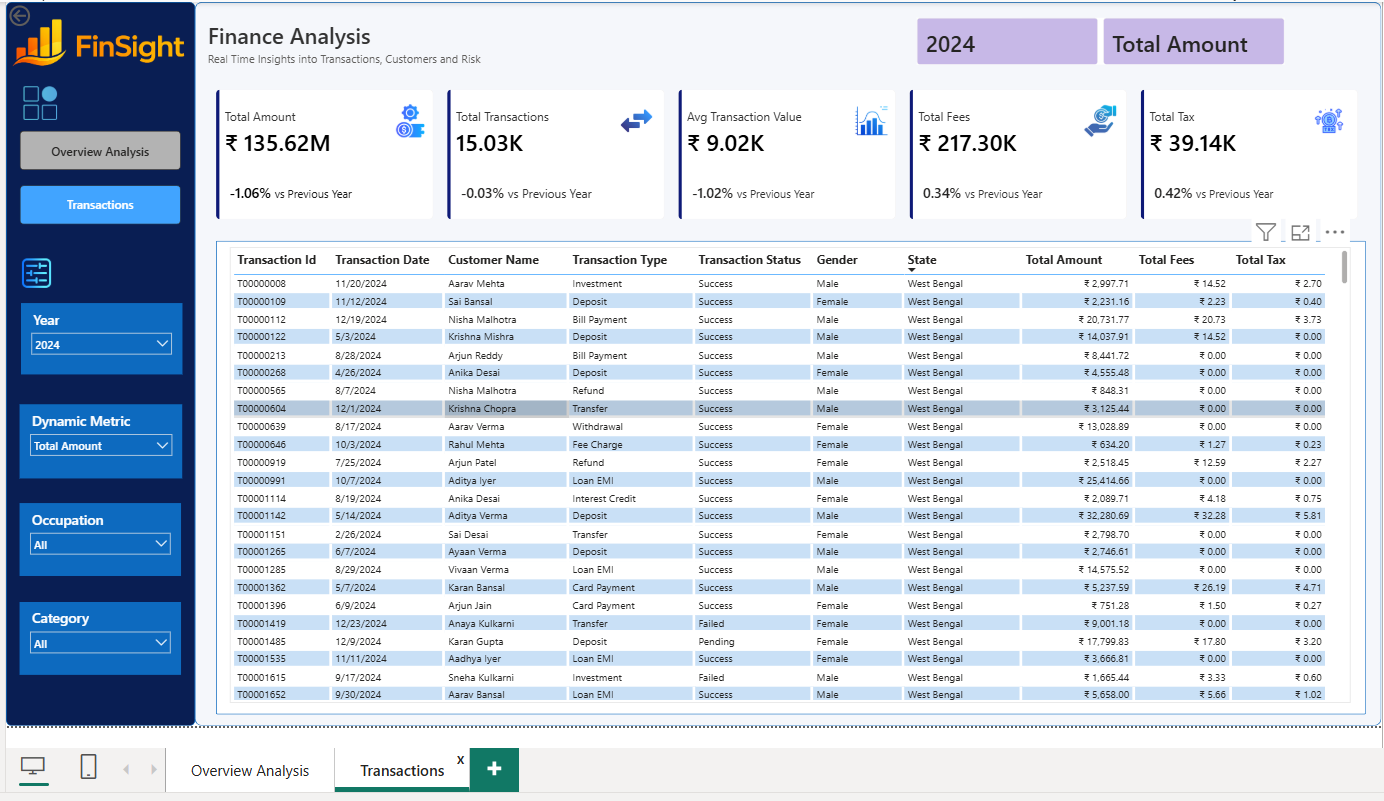

The page's visual inventory and layout, read from the dashboard file:
{"tool":"powerbi","page":{"name":"Transactions","canvas":[2000,1052],"ordinal":1},"visuals":[{"type":"shape","box":[0,0,275.1,1052.1],"z":0},{"type":"shape","box":[275.1,0,1724.7,1052.1],"z":1000},{"type":"image","box":[0,0,275.4,119.5],"z":2000},{"type":"cardVisual","fields":{"Data":["finance_transactions.Dashboard Title"]},"box":[275.4,0,483.3,119.5],"z":3000},{"type":"cardVisual","fields":{"Data":["finance_transactions.Total Amount","finance_transactions.Total Transactions","finance_transactions.Avg Transaction Value","finance_transactions.Total Fees","finance_transactions.Total Tax"]},"box":[298.1,119.7,1678.8,203.8],"z":4000},{"type":"image","box":[563,147.8,48.4,51],"z":5000},{"type":"image","box":[891.6,147.8,48.4,51],"z":6000},{"type":"image","box":[1233,147.8,48.4,51],"z":7000},{"type":"image","box":[1566.8,147.8,48.4,51],"z":8000},{"type":"image","box":[1897.9,147.8,48.4,51],"z":9000},{"type":"shape","box":[305.2,347,1671.5,688.6],"z":10000},{"type":"cardVisual","fields":{"Data":["finance_transactions.Selected Year","Dynamic Metric.Selected Dynamic Measure"]},"box":[1319.6,17.8,545.2,79],"z":11000},{"type":"tableEx","fields":{"Values":["finance_transactions.transaction_id","finance_transactions.transaction_date","customers.customer_name","finance_transactions.transaction_type","finance_transactions.transaction_status","customers.gender","customers.state","finance_transactions.Total Amount","finance_transactions.Total Fees","finance_transactions.Total Tax"]},"box":[325.2,356.1,1629.7,663.2],"z":12000},{"type":"actionButton","box":[0,0,100,40],"z":13000},{"type":"slicer","fields":{"Values":["Calendar Table.Year"]},"box":[21.8,437.9,234.4,103.6],"z":14000},{"type":"slicer","fields":{"Values":["Dynamic Metric.Dynamic Metric"]},"box":[20,585,236.2,107.2],"z":15000},{"type":"slicer","fields":{"Values":["customers.occupation"]},"box":[20,728.6,234.4,105.4],"z":16000},{"type":"slicer","fields":{"Values":["finance_transactions.merchant_category"]},"box":[20,872.1,234.4,105.4],"z":17000},{"type":"pageNavigator","box":[20,187.1,234.4,136.3],"z":18000},{"type":"image","box":[25.4,121.7,49.1,50.9],"z":19000},{"type":"image","box":[20,368.8,49.1,50.9],"z":20000}]}

Visuals, with their boxes on the page's 2000x1052 design canvas (x1, y1, x2, y2). These are canvas units, not pixel positions in the 1384x801 screenshot, which may show the page scaled, cropped or inside an application window:
shape: (0,0,275,1052)
shape: (275,0,2000,1052)
image: (0,0,275,120)
cardVisual - finance_transactions.Dashboard Title: (275,0,759,120)
cardVisual - finance_transactions.Total Amount x finance_transactions.Total Transactions: (298,120,1977,324)
image: (563,148,611,199)
image: (892,148,940,199)
image: (1233,148,1281,199)
image: (1567,148,1615,199)
image: (1898,148,1946,199)
shape: (305,347,1977,1036)
cardVisual - finance_transactions.Selected Year x Dynamic Metric.Selected Dynamic Measure: (1320,18,1865,97)
tableEx - finance_transactions.transaction_id x finance_transactions.transaction_date: (325,356,1955,1019)
actionButton: (0,0,100,40)
slicer - Calendar Table.Year: (22,438,256,542)
slicer - Dynamic Metric.Dynamic Metric: (20,585,256,692)
slicer - customers.occupation: (20,729,254,834)
slicer - finance_transactions.merchant_category: (20,872,254,978)
pageNavigator: (20,187,254,323)
image: (25,122,74,173)
image: (20,369,69,420)
